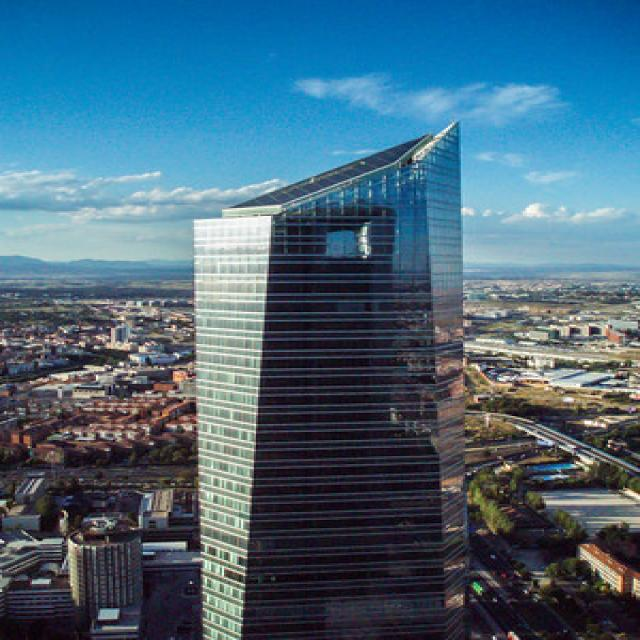Normal_building: (176, 115, 479, 640)
